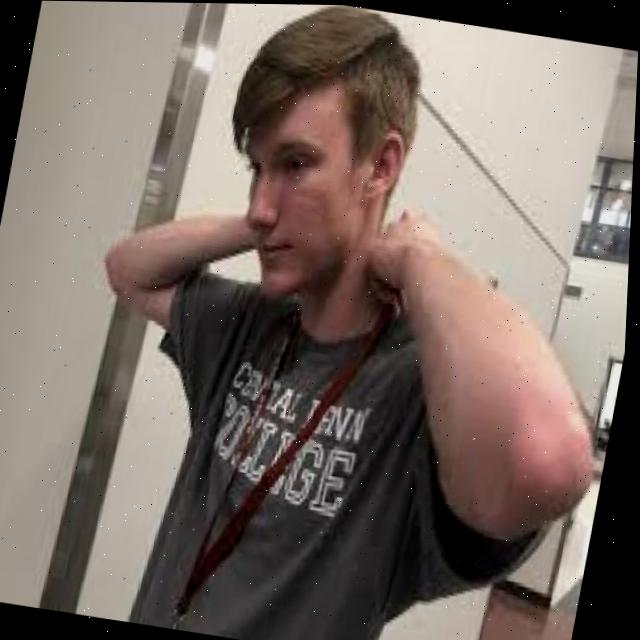id_card: (173, 297, 301, 618)
